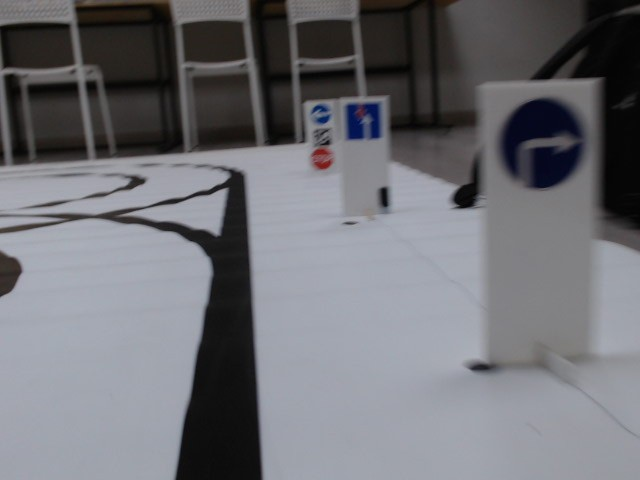Right: (499, 96, 582, 193)
Stop: (309, 148, 336, 171)
priority_movement: (345, 101, 387, 142)
